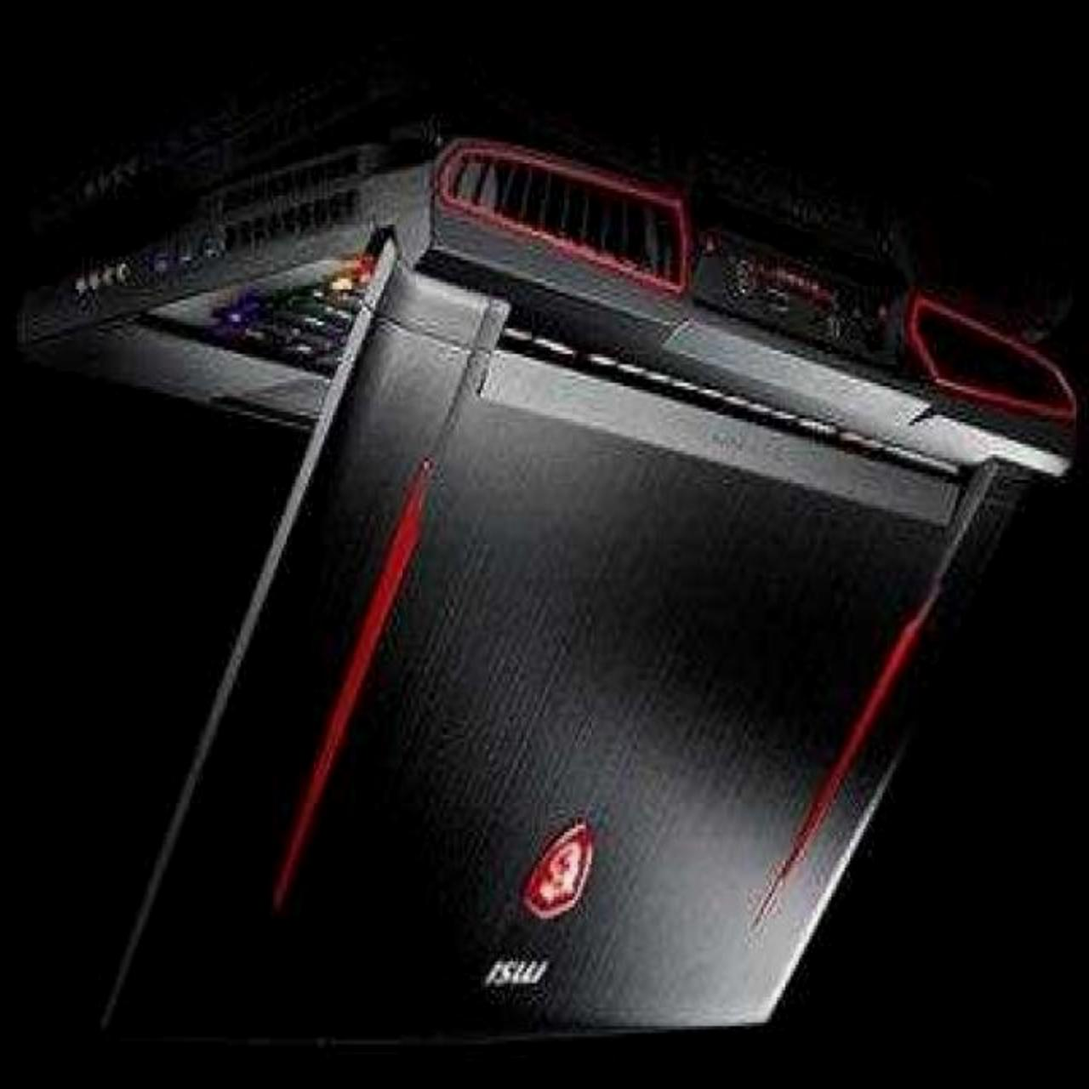laptop: (37, 167, 1075, 1052)
